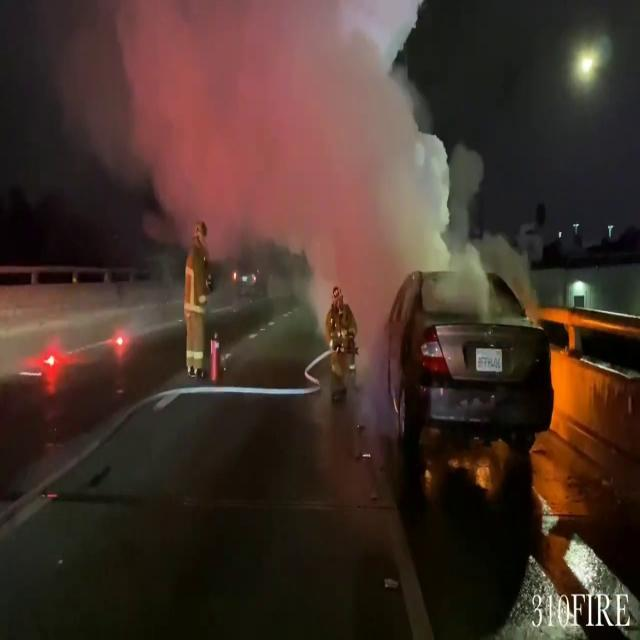Smoke: (4, 0, 452, 250)
